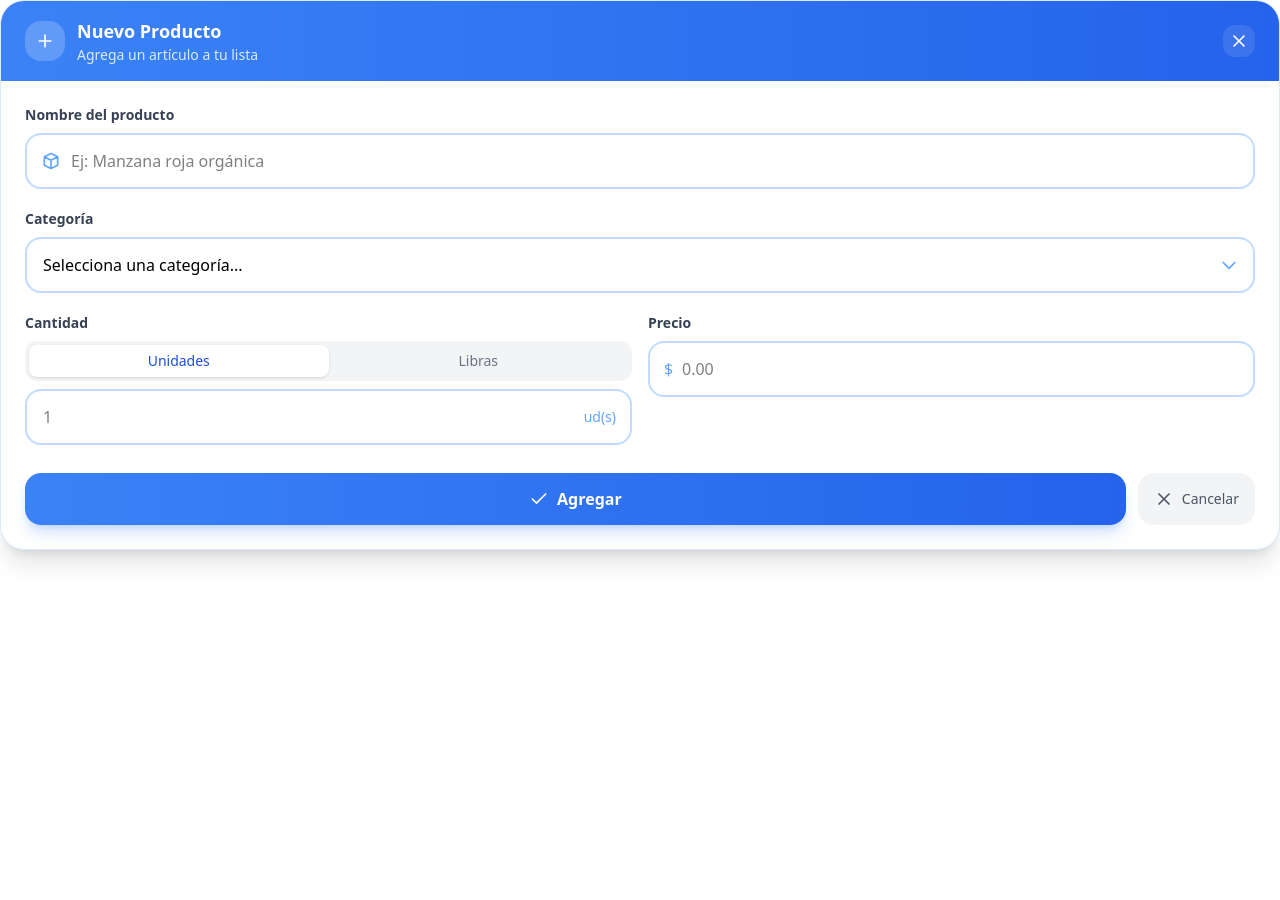
Test: test para probar el formulario de agregar productos › Muestra errores si el formulario está incompleto
The width and height of the screenshot is (1280, 900).
What coordinates should you click on to do the following:
click the button "Agregar"
I would click on:
 (575, 499)
Its box is [25,473,1126,525].
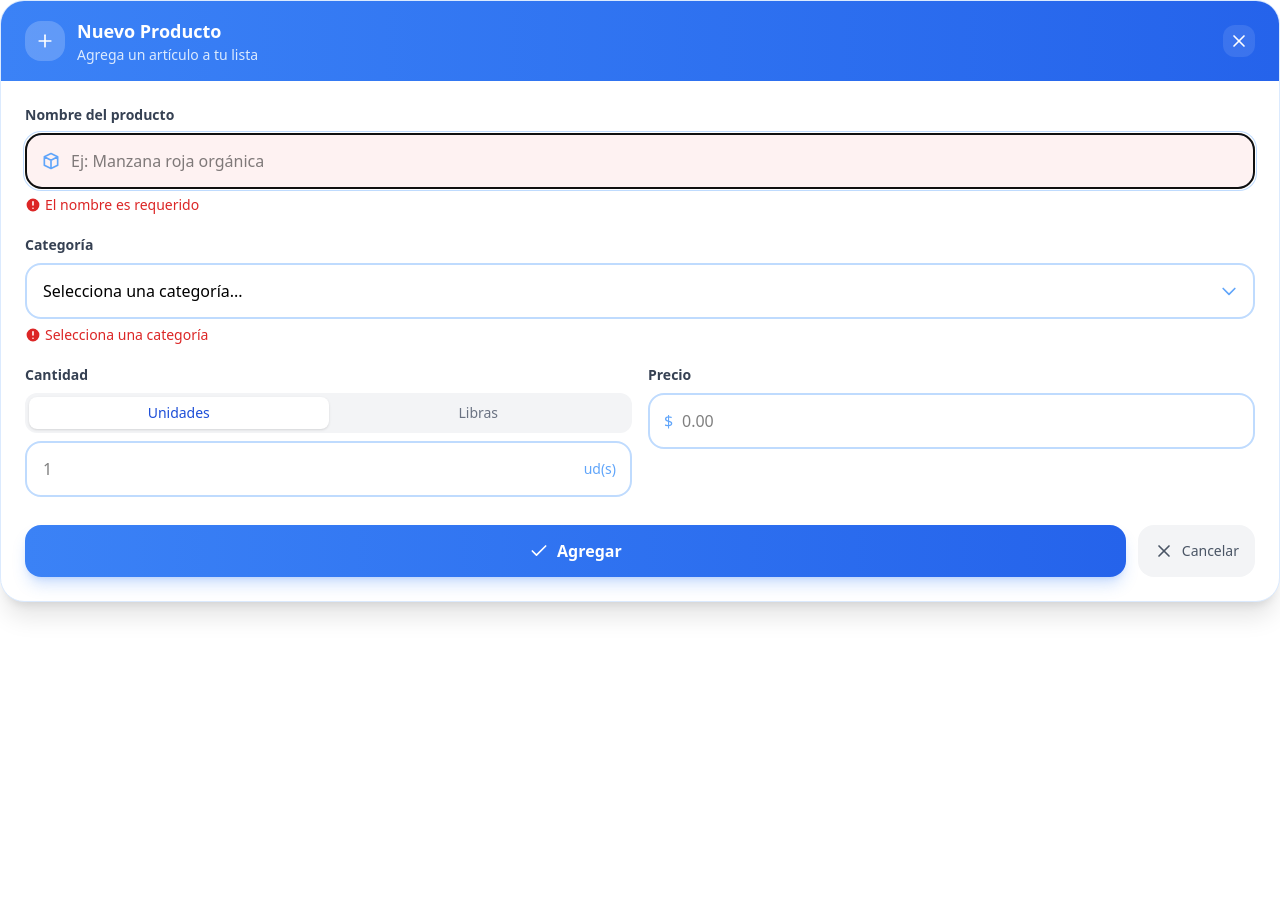
Result: the text "El nombre es requerido" is shown at [25,195,199,214]
